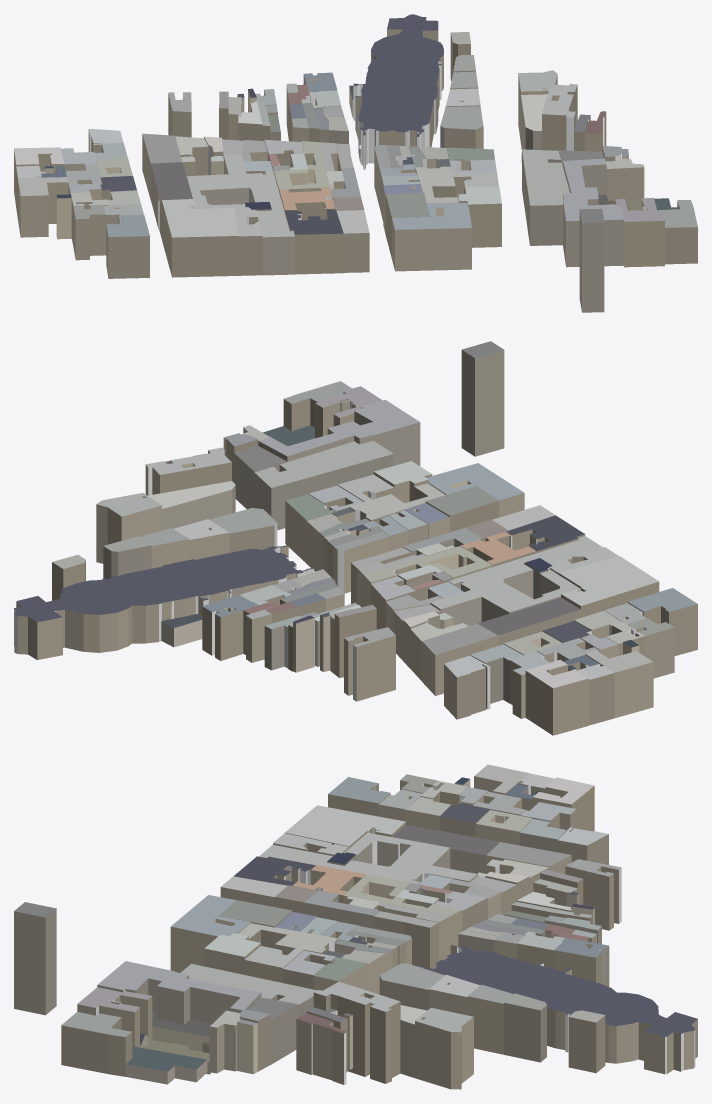
3 renders of one model, top to bottom at view 1: azimuth 30°, elevation 25°; view 2: azimuth 150°, elevation 25°; view 3: azimuth 270°, elevation 25°, orthographic. The views are drawn at different scales.
Visible parts, largest first — view 1: tuile; view 2: tuile; view 3: tuile.
Boxes of the visible parts, <box> form: tuile: <box>14,14,697,312</box>; tuile: <box>14,341,697,735</box>; tuile: <box>14,764,697,1089</box>.
Bounding box in the file's own units: 273 × 44.98 × 285.
